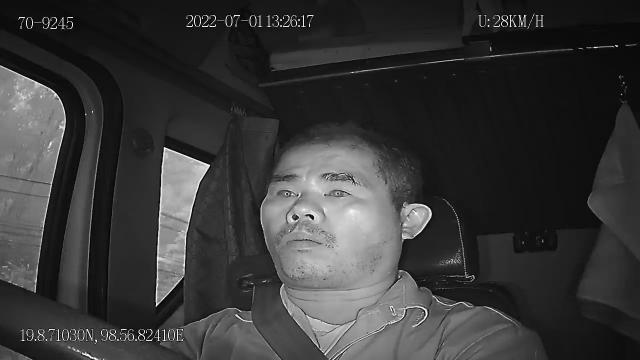SafeDriving: (316, 173, 358, 204), (268, 178, 304, 204)
Seatbelt: (248, 278, 334, 360)
